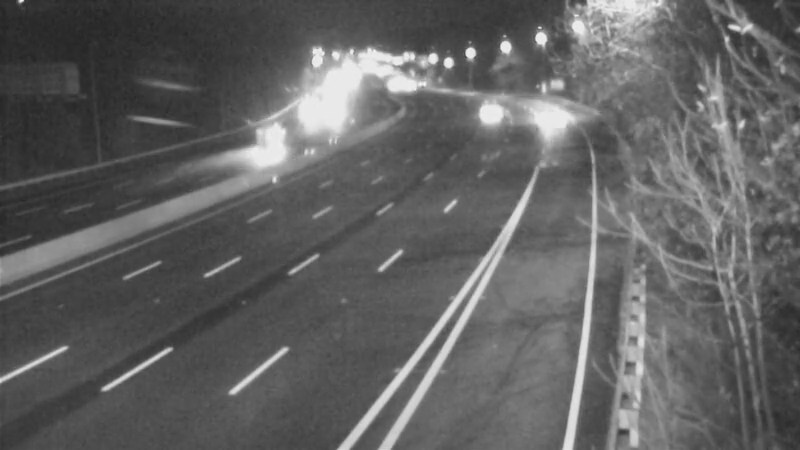vehicle: (523, 90, 573, 140), (464, 81, 514, 131), (250, 119, 300, 169), (283, 87, 333, 137)
